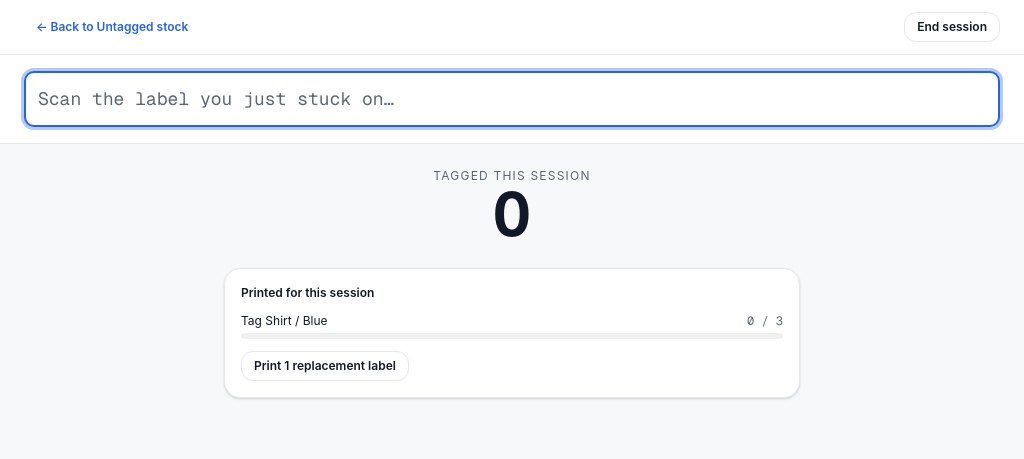
Scenario: Tag stock › tg2 — a tagged scan updates the counters; a refusal shows its message
Expected: the list item with test id "tag-progress-v-blue" shows "0 / 3", [241,313,783,339]
Type "P000101" into the field with placeholder "Scan the label you just stuck on…" at (512, 99), box [24,71,1000,127]
Then press Enter
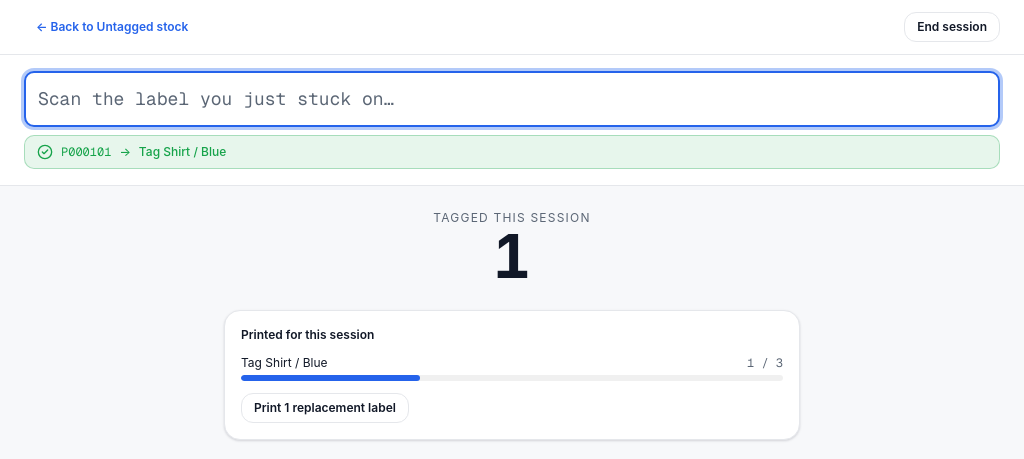
Expected: the text with test id "tagged-count" reads "1", [493,220,531,292]
Expected: the list item with test id "tag-progress-v-blue" shows "1 / 3", [241,355,783,381]
Expected: the element with test id "tag-last-scan" reads "P000101 → Tag Shirt / Blue", [24,135,1000,169]
Type "P000102" into the field with placeholder "Scan the label you just stuck on…" at (512, 99), box [24,71,1000,127]
Then press Enter
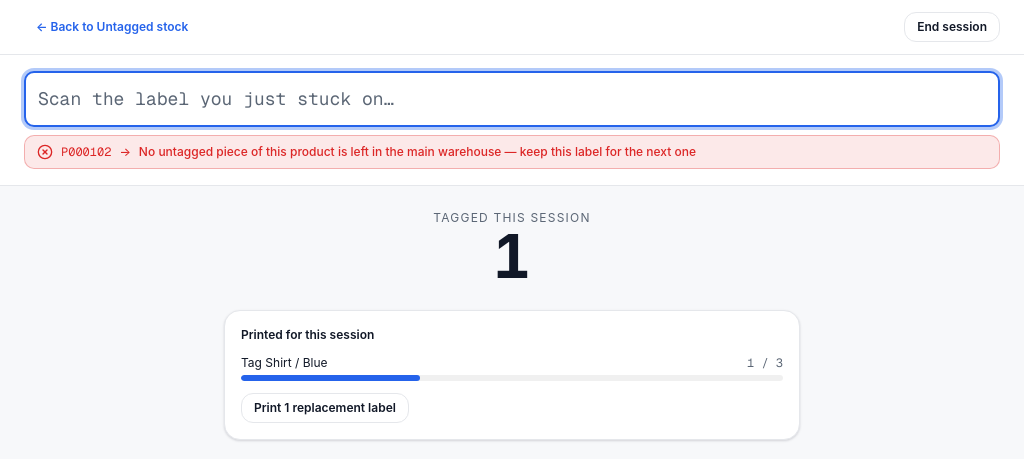
Expected: the element with test id "tag-last-scan" shows "No untagged piece of this product is left in the main warehouse", [139,144,696,159]
